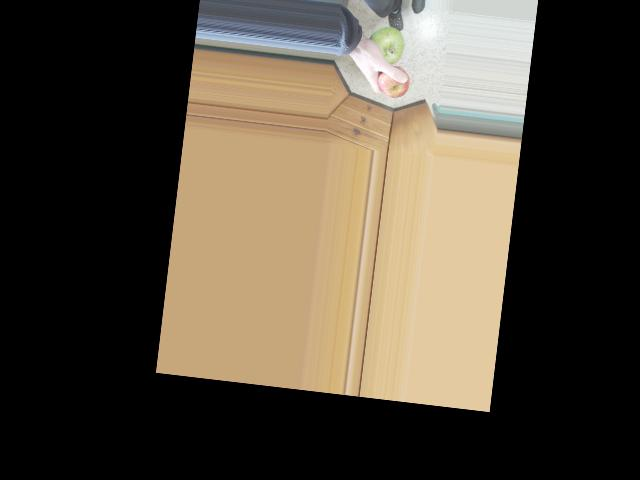apple: (363, 21, 408, 67)
